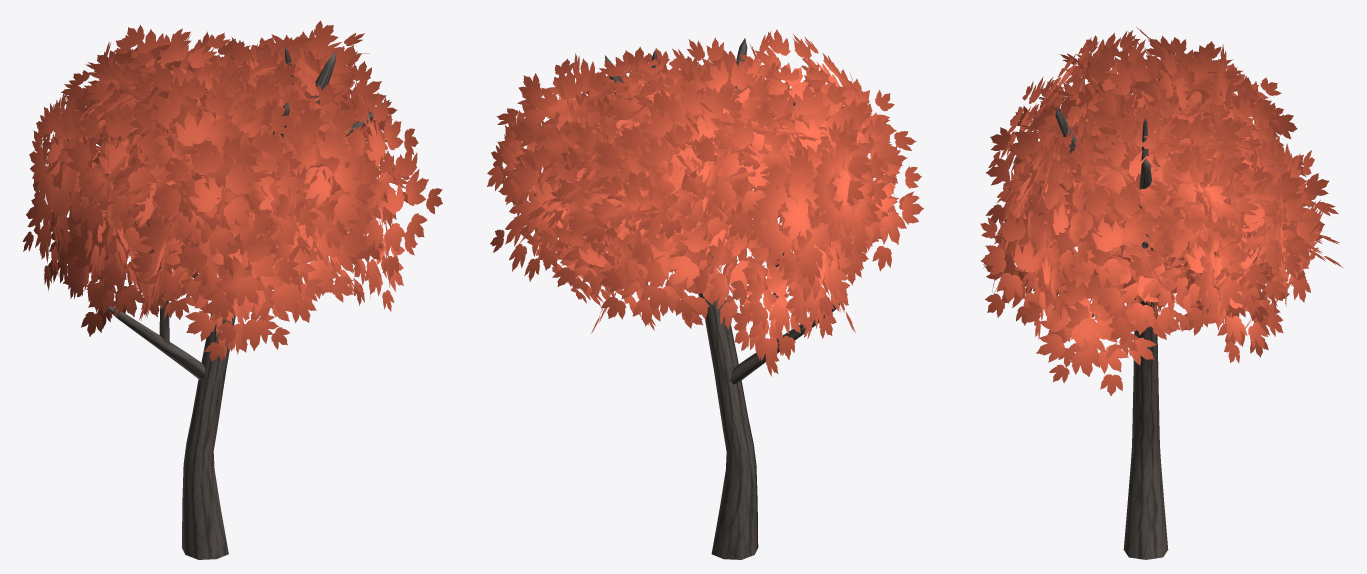
The model's file is quaternius-ultimate-stylized-nature-maple-tree-4.glb.
The picture shows the model from 3 angles, left to right: view 1: azimuth 30°, elevation 25°; view 2: azimuth 150°, elevation 25°; view 3: azimuth 270°, elevation 25°; orthographic projection. The views are drawn at different scales.
Parts seen in each view (by area): view 1: MapleTree_4; view 2: MapleTree_4; view 3: MapleTree_4.
Part boxes in pixels (x1,y1,x2,y2): MapleTree_4: (22, 20, 442, 559); MapleTree_4: (487, 29, 923, 559); MapleTree_4: (980, 27, 1342, 559).
Size of the model in its own units: 2.77 by 3.59 by 2.44.
Materials: 2 (2 with a texture image).
